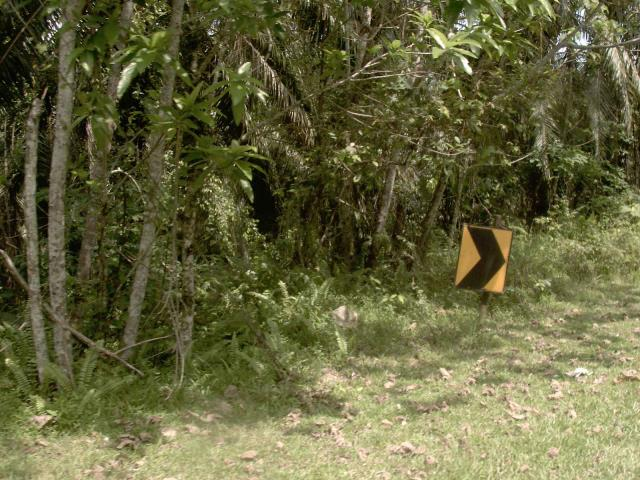traffic_sign: (445, 213, 521, 306)
